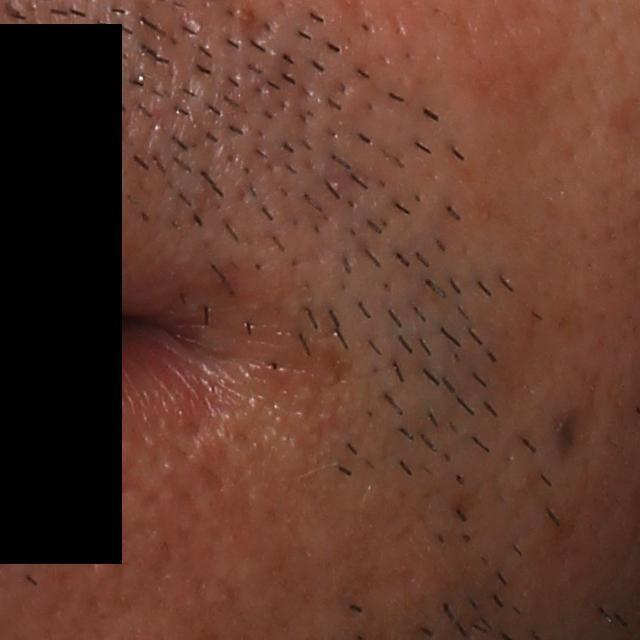atrophic_scar: (237, 2, 281, 48)
nevus: (553, 407, 582, 460)
